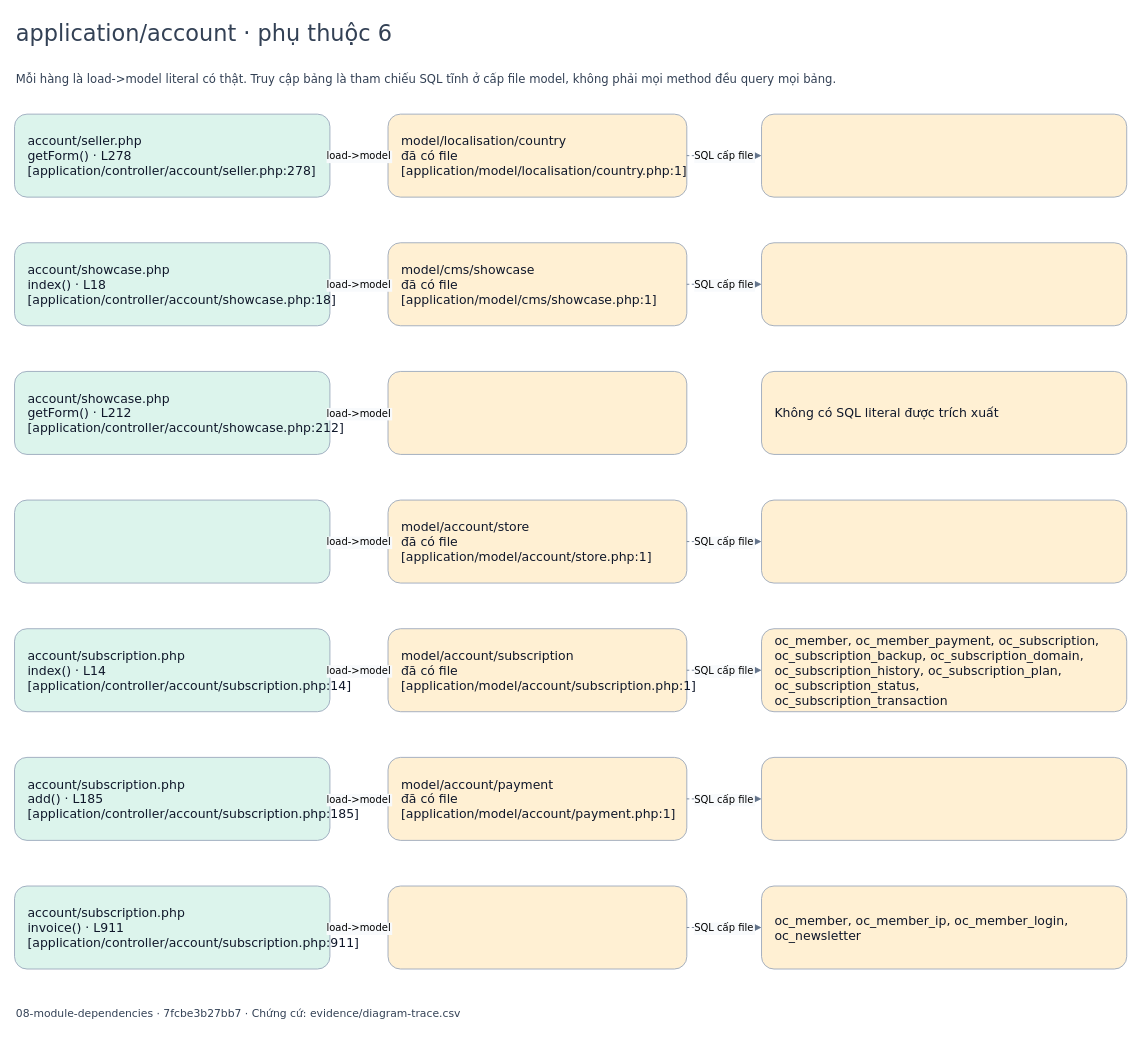
This 1141x1039 diagram has some shape labels left out. The shapes that lost their labels are listed below. From the top down, each one's centre as x and y in pixels, then its label:
the point at 944,155: oc_country
the point at 944,284: oc_showcase, oc_showcase_category
the point at 537,412: model/tool/image đã có file [application/model/tool/image.php:1]
the point at 172,541: account/store.php index() · L18 [application/controller/account/store.php:18]
the point at 944,541: oc_member_store
the point at 944,798: oc_member_payment
the point at 537,927: model/account/member đã có file [application/model/account/member.php:1]
